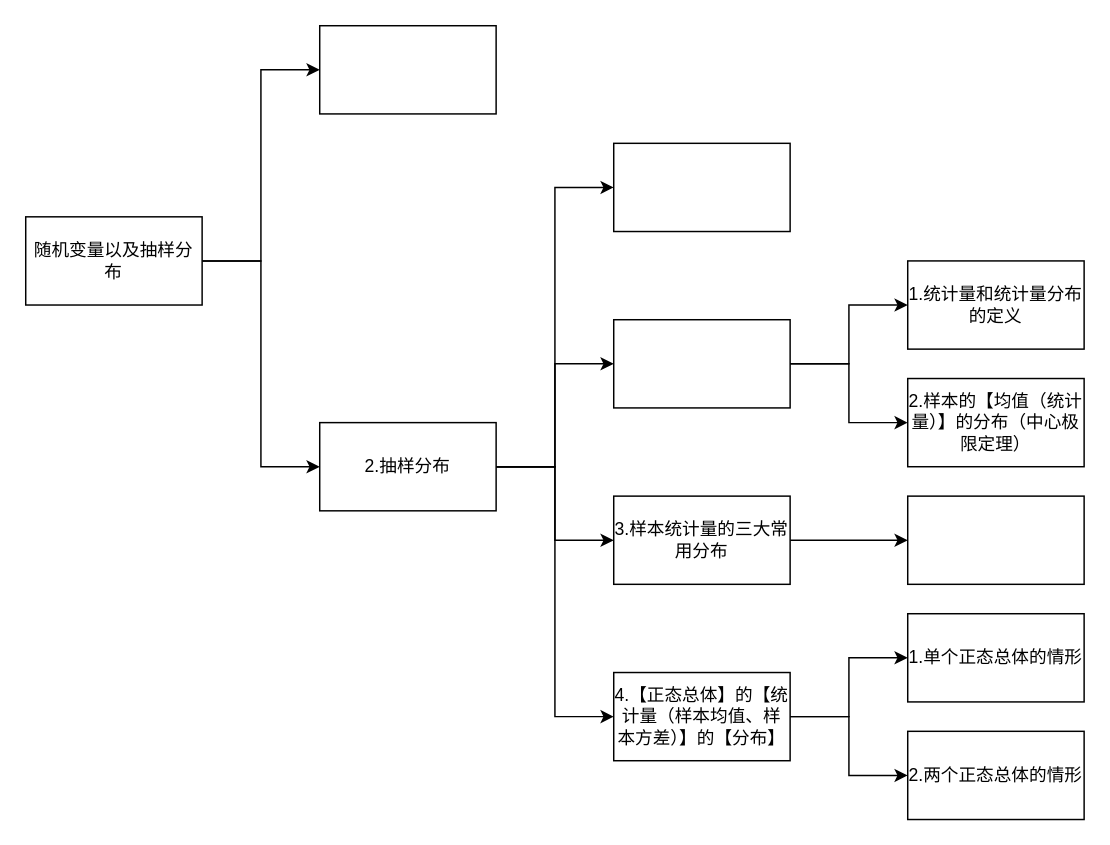
The diagram is 1110 pixels wide and 845 high, and some of its shapes have lost their labels. Here are the shapes that lost their labels. From the top down, the centre of each, then its label:
[407,69]: 1.概率分布/随机变量
[701,187]: 1.抽样的基本概念
[701,363]: 2.【样本的统计量】及均值（统计量）的分布
[995,539]: 1. 卡方分布 2. t分布 3. F分布
